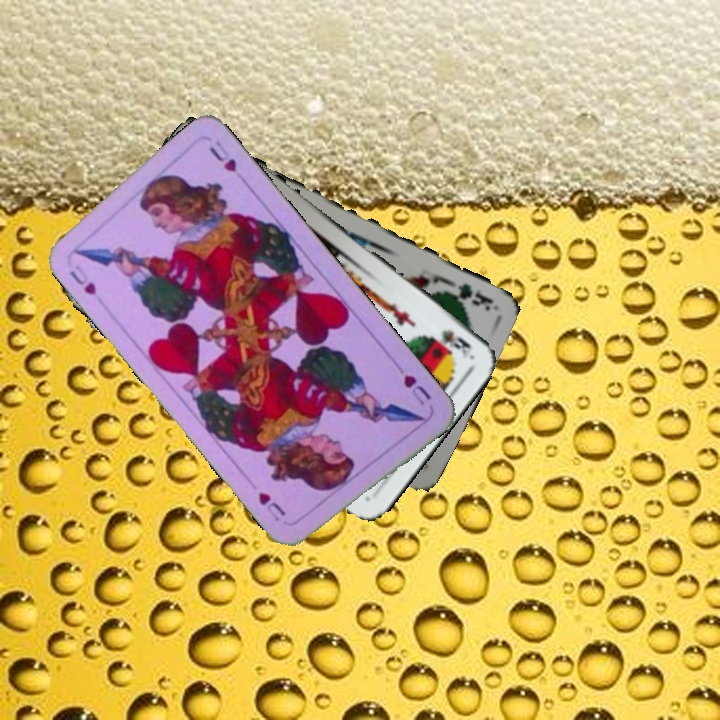GK: (441, 279, 499, 313)
HU: (65, 256, 99, 298), (399, 370, 434, 408)
SK: (437, 325, 474, 361)
